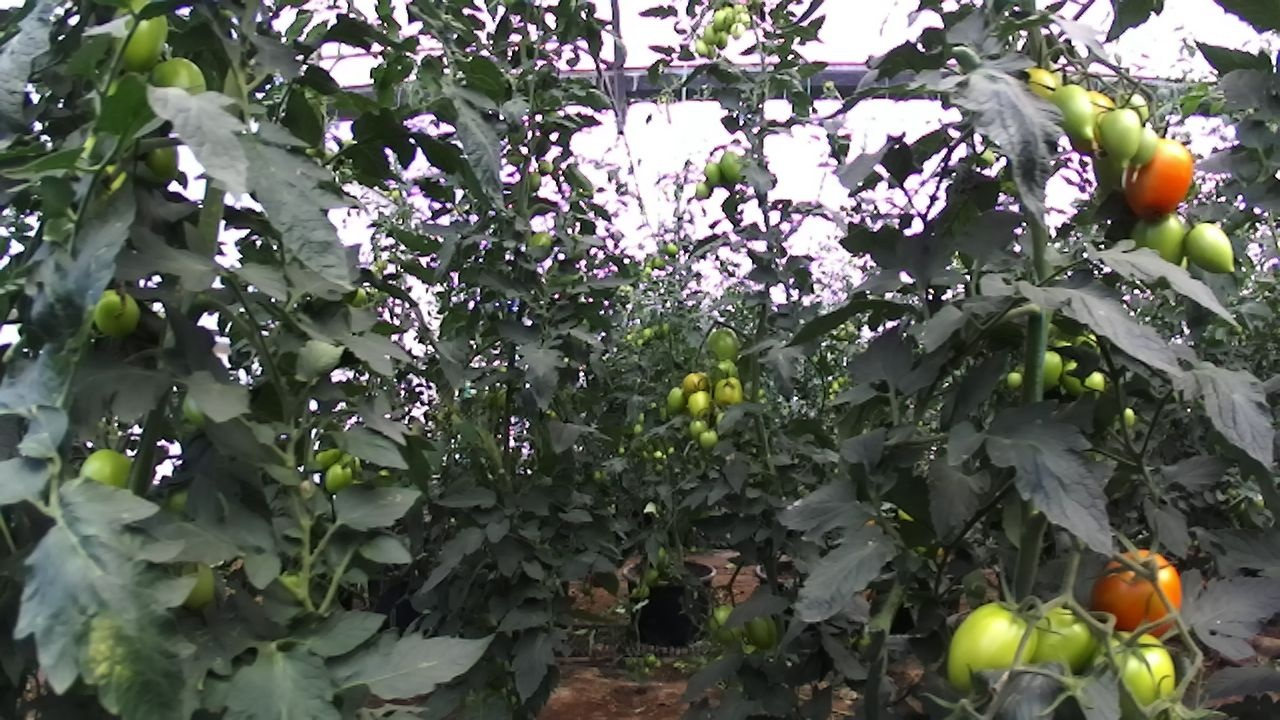tomato: (1086, 524, 1198, 653), (935, 585, 1046, 705), (1079, 604, 1190, 720), (1008, 574, 1115, 690), (1103, 120, 1215, 230), (1120, 190, 1208, 283), (1177, 212, 1255, 291), (100, 0, 180, 75), (1042, 79, 1111, 161), (1061, 79, 1128, 163), (83, 280, 152, 347), (122, 127, 193, 191), (146, 50, 216, 113), (1094, 102, 1154, 173), (75, 439, 141, 503), (1060, 347, 1117, 412), (1123, 114, 1168, 177), (1025, 342, 1077, 395), (738, 604, 790, 655), (700, 320, 745, 369), (713, 145, 752, 198), (697, 600, 746, 638), (521, 226, 561, 265), (711, 372, 747, 410), (320, 457, 355, 496), (677, 367, 711, 404), (685, 385, 716, 423), (700, 152, 729, 188), (1000, 360, 1028, 397), (662, 383, 691, 418), (1113, 400, 1144, 432), (634, 565, 666, 592), (689, 36, 717, 65), (521, 169, 547, 196), (686, 415, 712, 440), (692, 178, 714, 206), (697, 427, 721, 452), (728, 17, 749, 43), (535, 156, 558, 177), (709, 7, 730, 30), (662, 238, 682, 259), (700, 23, 718, 45), (713, 30, 731, 51)
